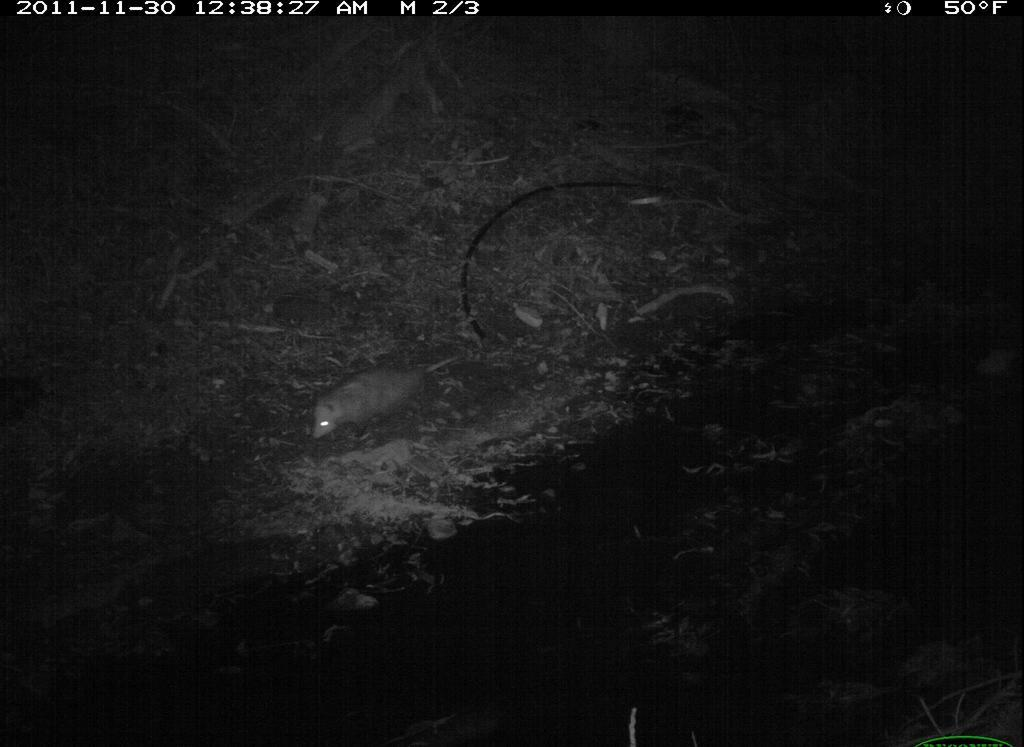opossum: (280, 351, 477, 445)
